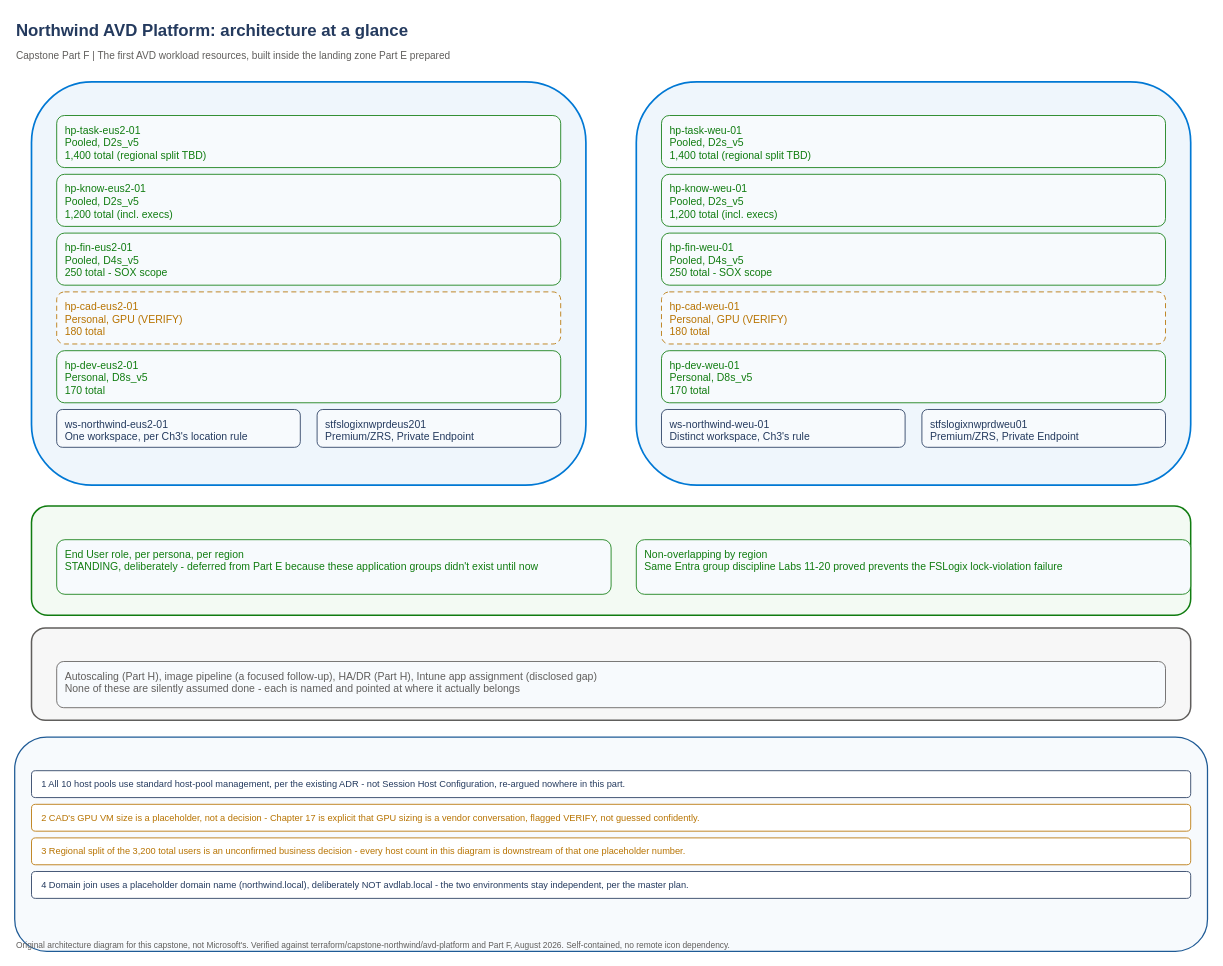
This 1223x966 diagram has some shape labels left out. The box of each missing label's shape, as (x1, y1, x2, y2) in pixels:
DELIBERATELY NOT BUILT IN THIS PART: (30, 627, 1191, 721)
EAST US 2 - CHICAGO (SUB-NORTHWIND-AVD-PROD): (30, 81, 586, 486)
HOW TO READ THIS IN 60 SECONDS: (14, 736, 1208, 952)
RBAC: END USER BUILT HERE, FOR THE FIRST TIME: (30, 505, 1191, 616)
WEST EUROPE - AMSTERDAM + BANGALORE (INTERNET PATH): (635, 81, 1191, 486)
